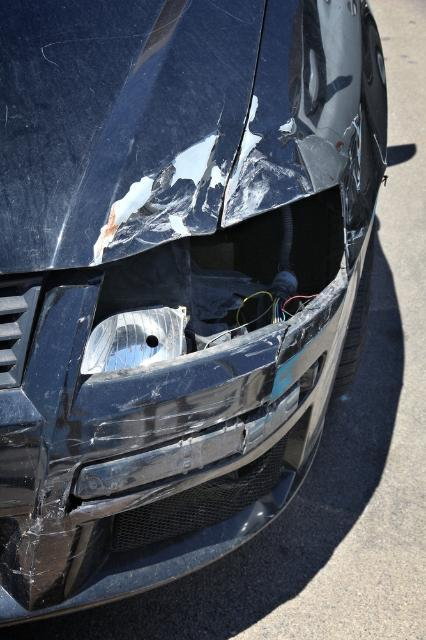crack: (241, 421, 247, 454)
no part: (84, 185, 347, 379)
scratch: (18, 384, 246, 591), (87, 128, 238, 265), (217, 123, 346, 232)
